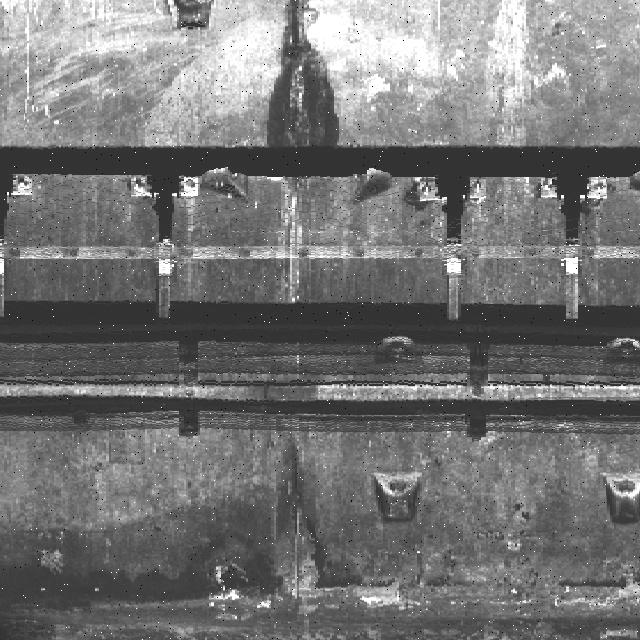leakage: (0, 442, 358, 637), (248, 1, 338, 167)
